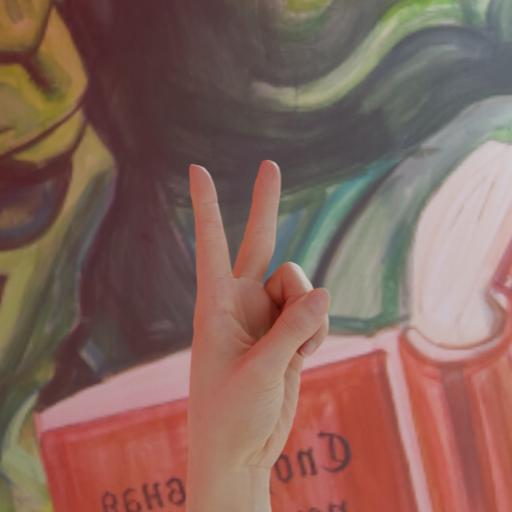V: (180, 150, 338, 474)
